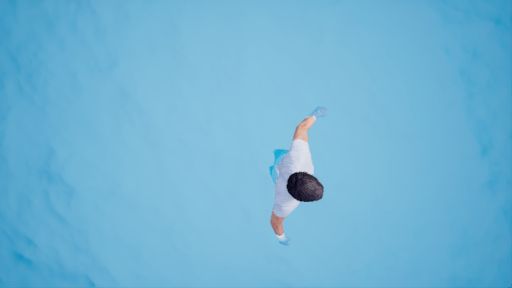person: (271, 103, 332, 252)
